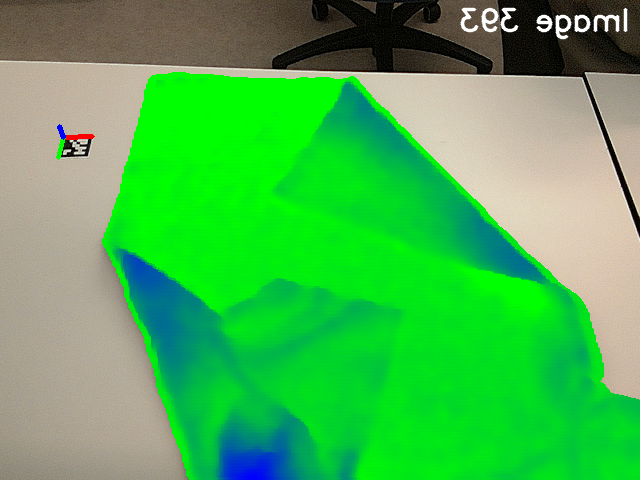V: (261, 158, 315, 219), (357, 284, 412, 339), (257, 268, 307, 312)
